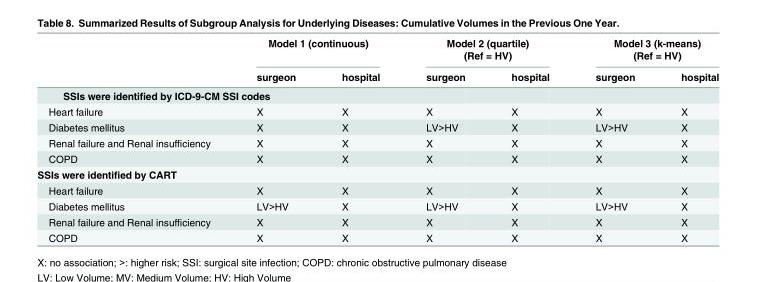table: (36, 36, 718, 243)
table column: (36, 36, 232, 243), (232, 36, 318, 243), (571, 36, 657, 243), (402, 36, 487, 243), (318, 36, 402, 243), (487, 36, 571, 243), (657, 36, 718, 243)
table column header: (36, 36, 718, 85)
table projected row header: (36, 85, 718, 103), (36, 166, 718, 182)
table row: (36, 36, 718, 65), (36, 65, 718, 85), (36, 85, 718, 103), (36, 103, 718, 119), (36, 134, 718, 150), (36, 150, 718, 166), (36, 166, 718, 182), (36, 197, 718, 213), (36, 213, 718, 229), (36, 119, 718, 134), (36, 182, 718, 197), (36, 229, 718, 243)
table spanning cell: (232, 36, 402, 65), (402, 36, 571, 65), (571, 36, 718, 65)
